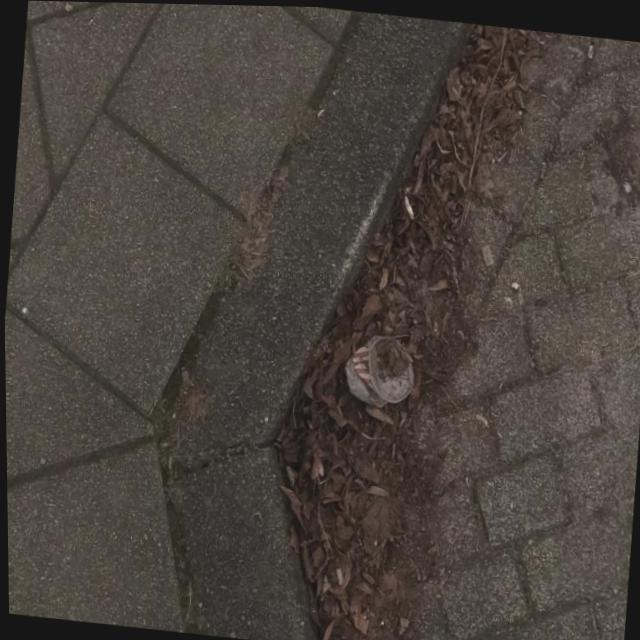Cup: (339, 329, 416, 406)
